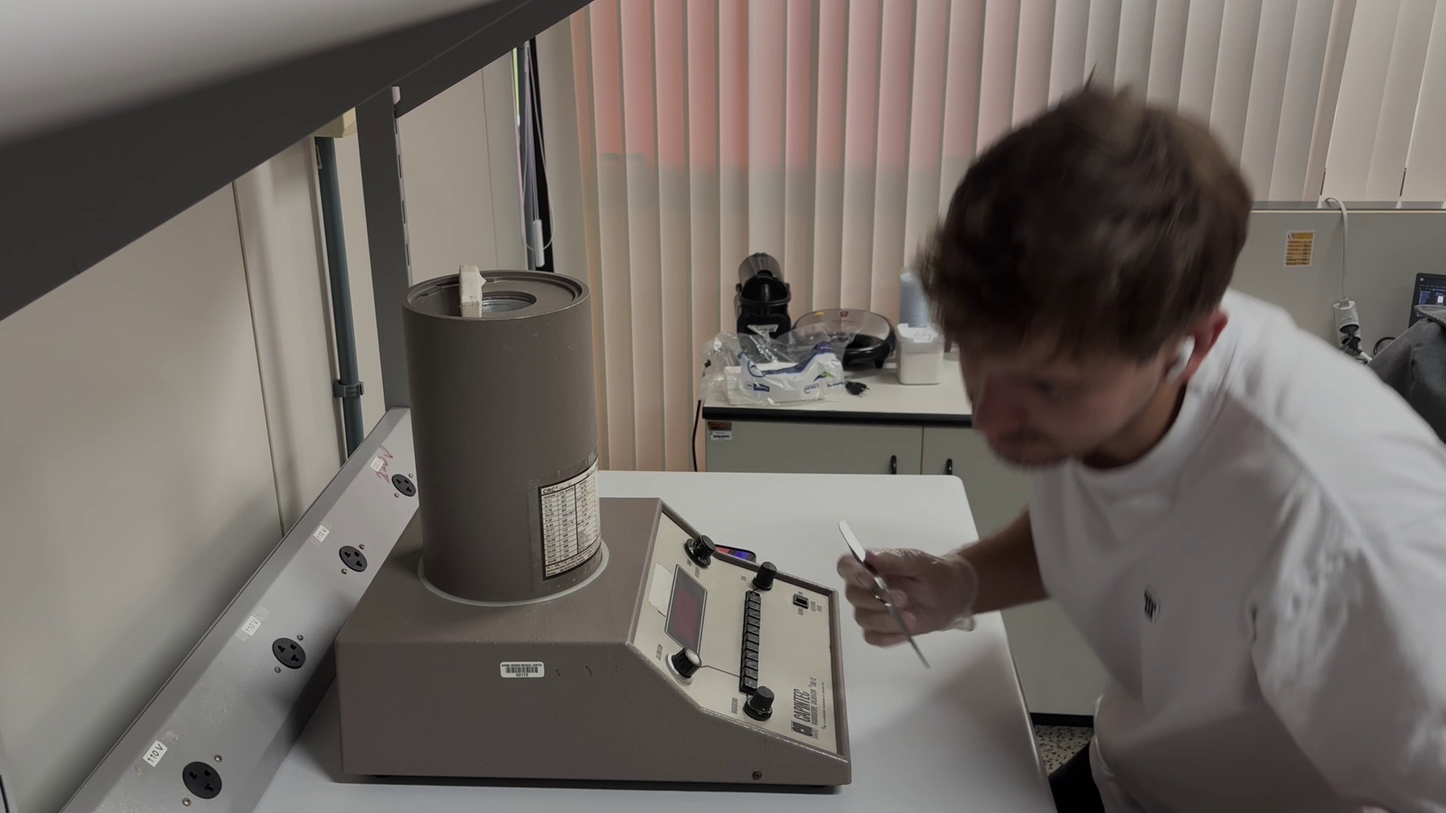Ativimetro: (398, 267, 609, 606)
Com_Luva: (835, 547, 980, 647)
